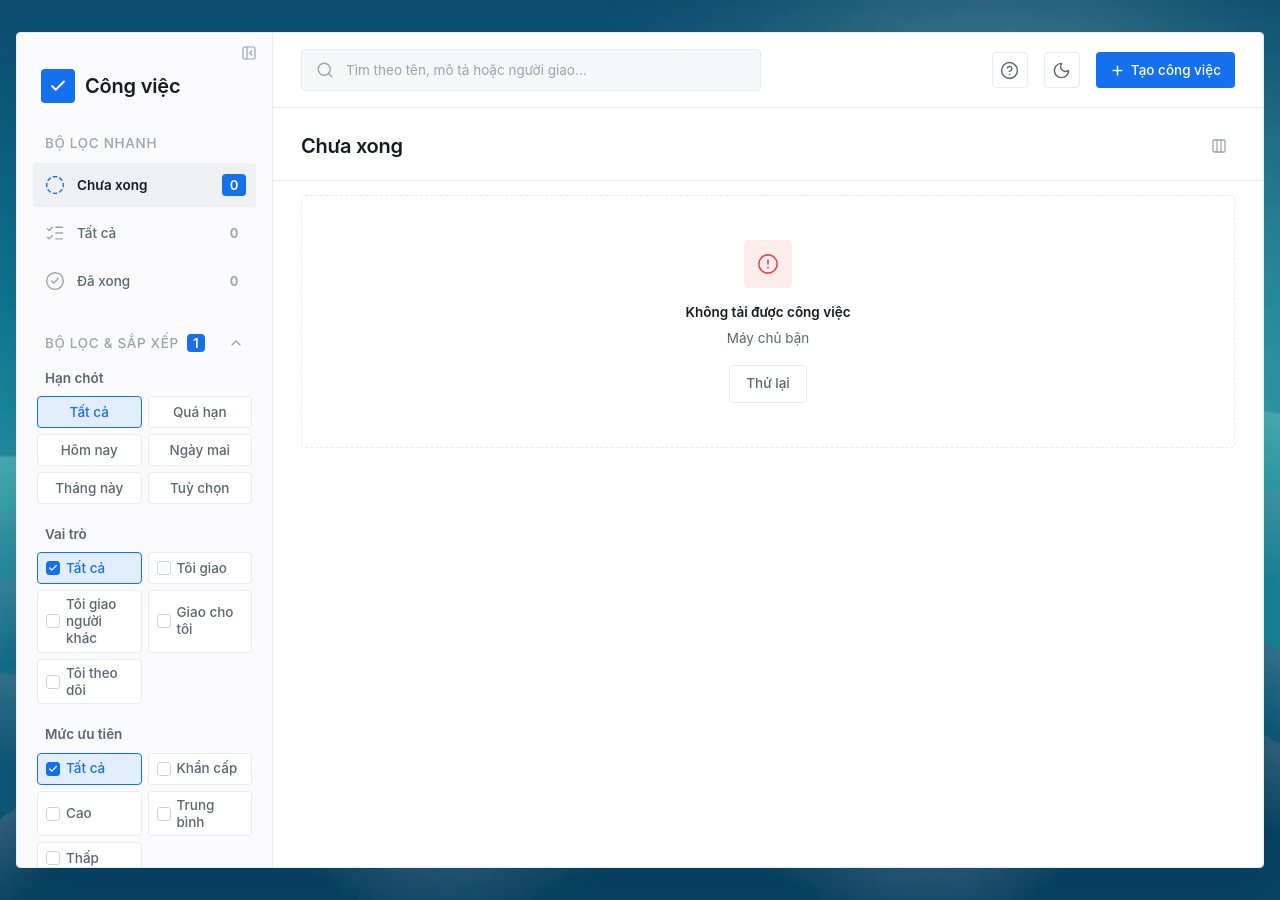
Test: loading, error and session states (AC2) › shows the API error with a working "Thử lại"
Expected: the message with test id "app-error" shows "Máy chủ bận", [727, 330, 809, 346]
Click the button with test id "app-retry": (768, 384) [729, 364, 807, 402]
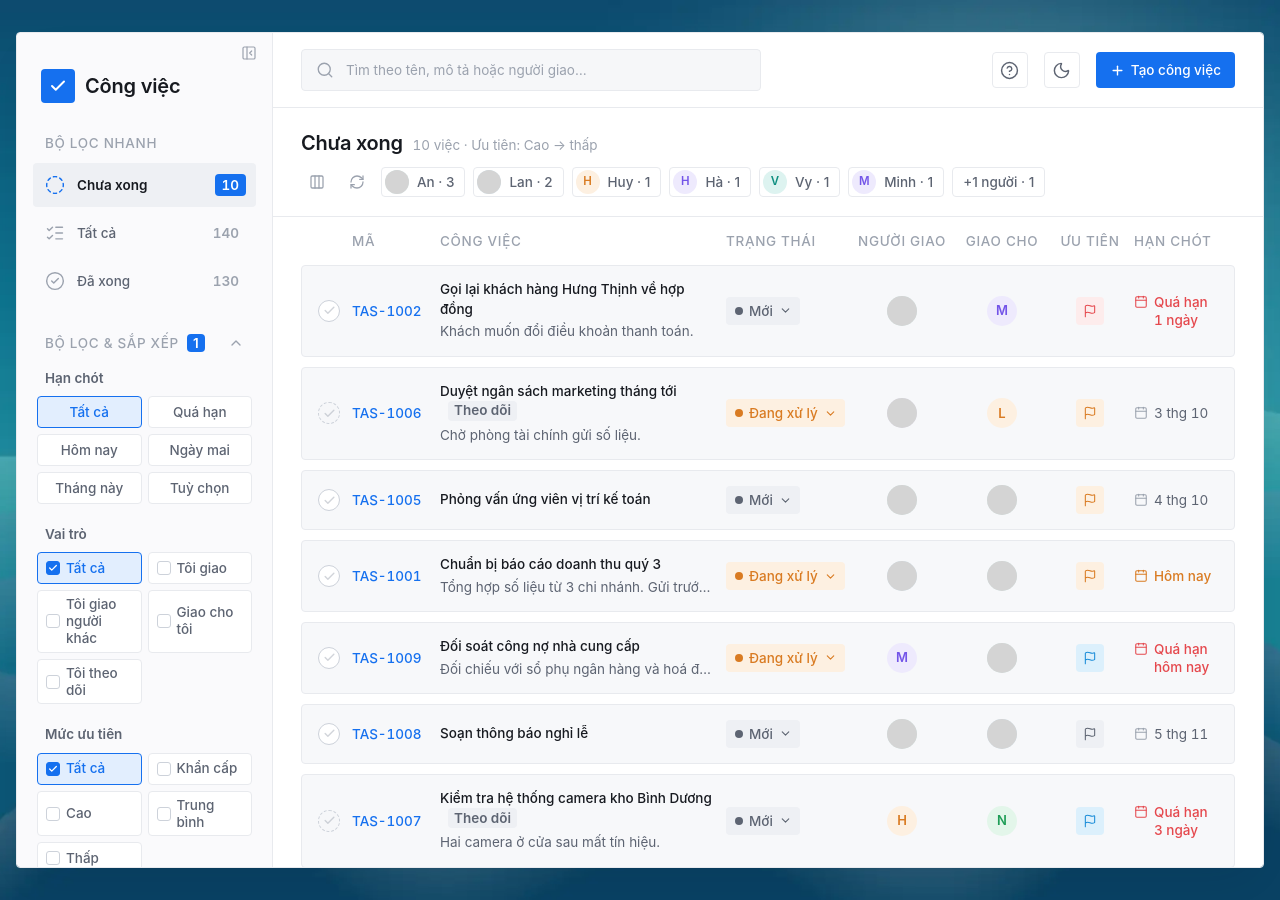
Expected: the message with test id "app-error" is gone
